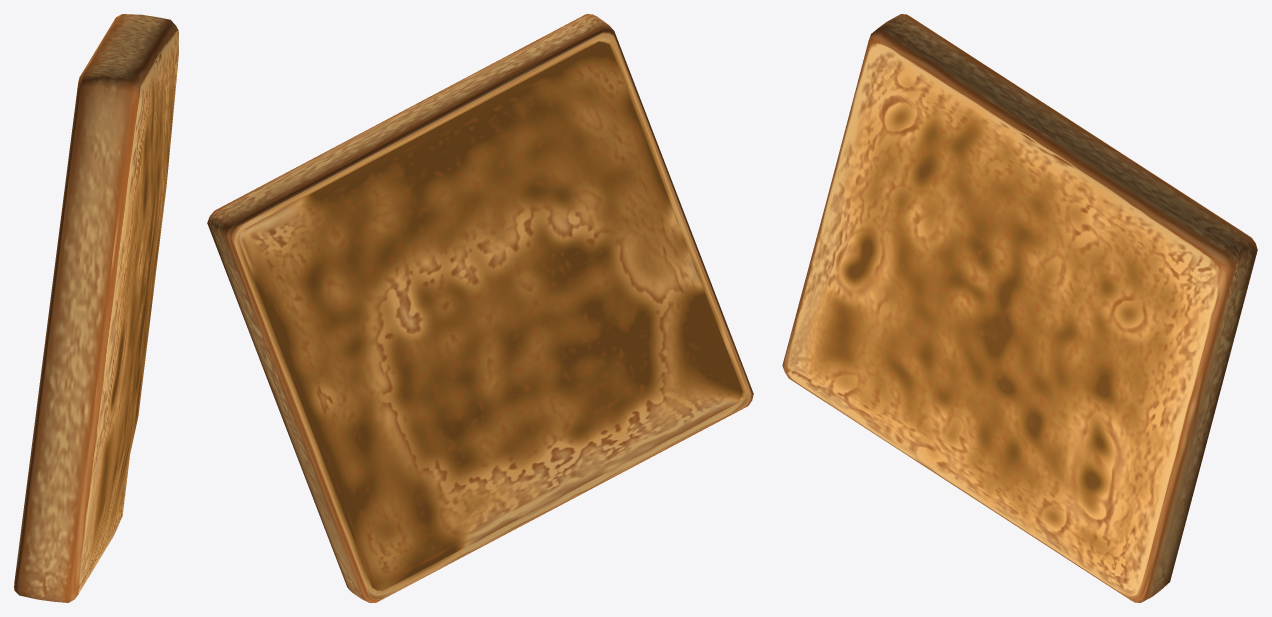
The model's file is toast_top.obj.
3 renders of one model, left to right at view 1: azimuth 30°, elevation 25°; view 2: azimuth 150°, elevation 25°; view 3: azimuth 270°, elevation 25°, orthographic. The views are drawn at different scales.
Parts seen in each view (by area): view 1: dynamic; view 2: dynamic; view 3: dynamic.
Part boxes in pixels (left/top/right/bottom): dynamic: left=14, top=14, right=178, bottom=602; dynamic: left=207, top=14, right=753, bottom=602; dynamic: left=782, top=14, right=1257, bottom=602.
Size of the model in its own units: 2.61 by 3.77 by 3.1.
Materials: 1 (1 with a texture image).
